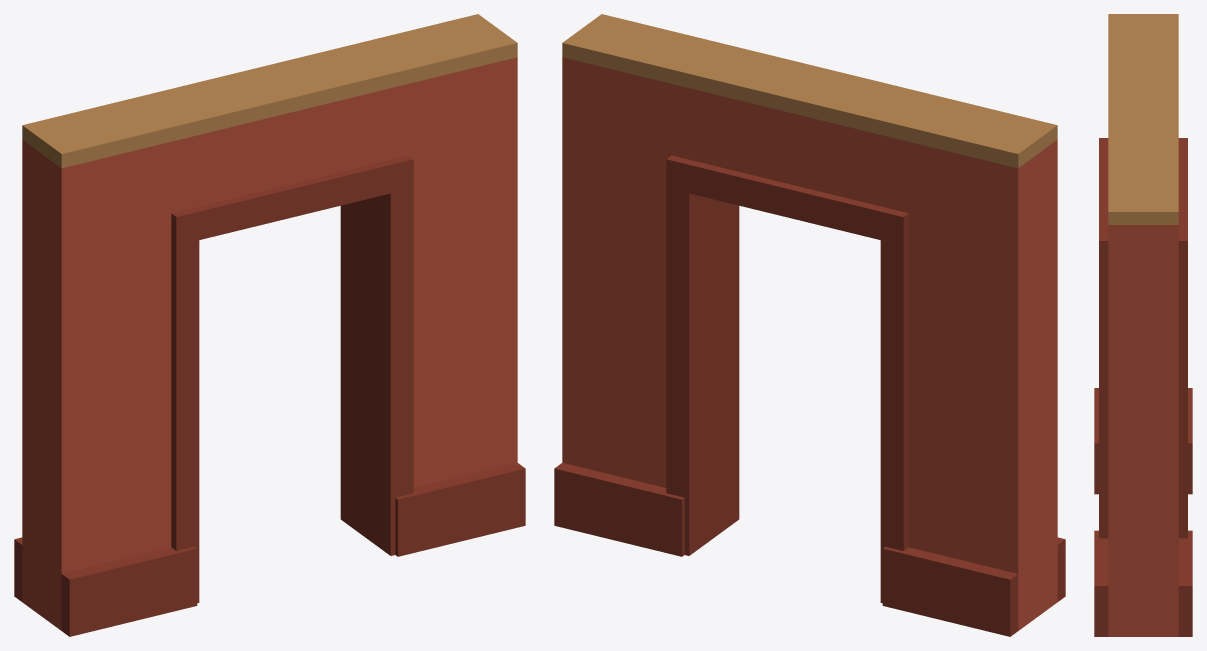
File: wall-door.glb
3 views of the same model, side by side, from view 1: azimuth 30°, elevation 25°; view 2: azimuth 150°, elevation 25°; view 3: azimuth 270°, elevation 25° (orthographic). The views are drawn at different scales.
Visible parts, largest first — view 1: wall-door; view 2: wall-door; view 3: wall-door.
Part boxes in pixels (<box>): wall-door: <box>14,14,525,636</box>; wall-door: <box>554,14,1065,636</box>; wall-door: <box>1094,14,1192,636</box>.
Bounding box in the file's own units: 1 × 1 × 0.21.
Materials: 1 (1 with a texture image).
